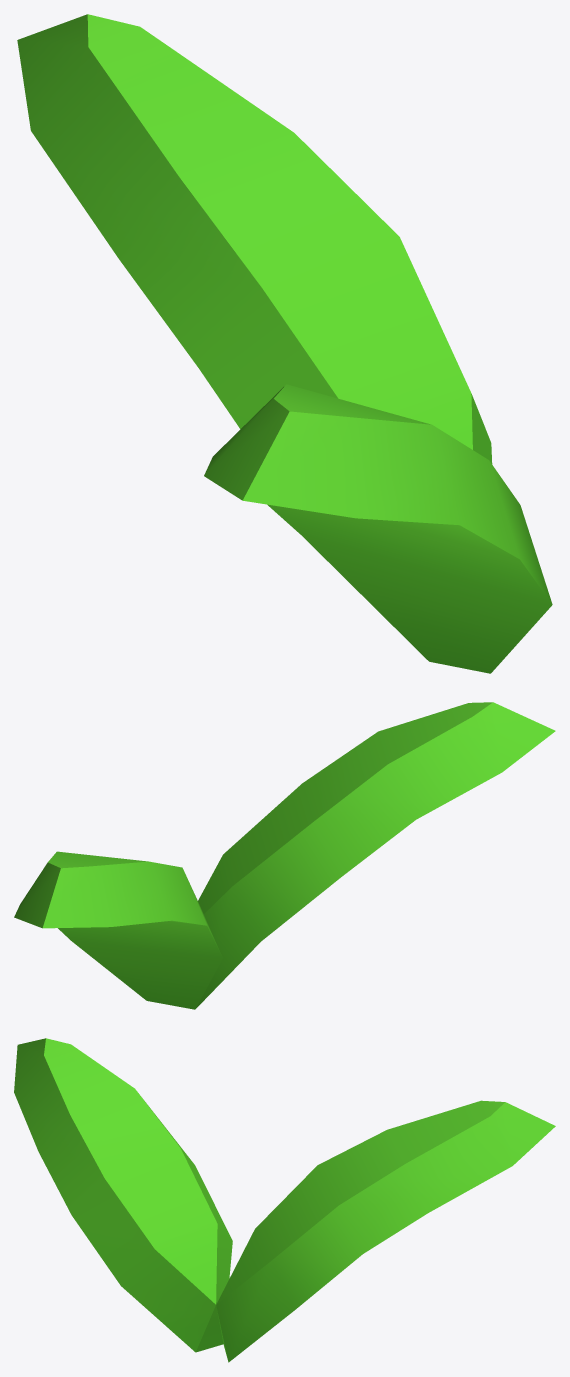
The model's file is Grass_E_2_.fbx.
3 renders of one model, top to bottom at view 1: azimuth 30°, elevation 25°; view 2: azimuth 150°, elevation 25°; view 3: azimuth 270°, elevation 25°, orthographic. The views are drawn at different scales.
Parts seen in each view (by area): view 1: Grass_E_2; view 2: Grass_E_2; view 3: Grass_E_2.
Boxes of the visible parts, box(x1,y1,x2,y2) form: Grass_E_2: box(17, 14, 552, 673); Grass_E_2: box(14, 702, 555, 1009); Grass_E_2: box(14, 1038, 555, 1362).
Size of the model in its own units: 16.56 by 13.75 by 29.53.
